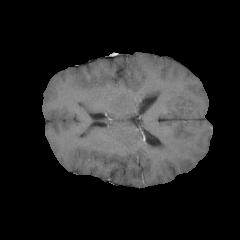glioma: (124, 79, 169, 103)
